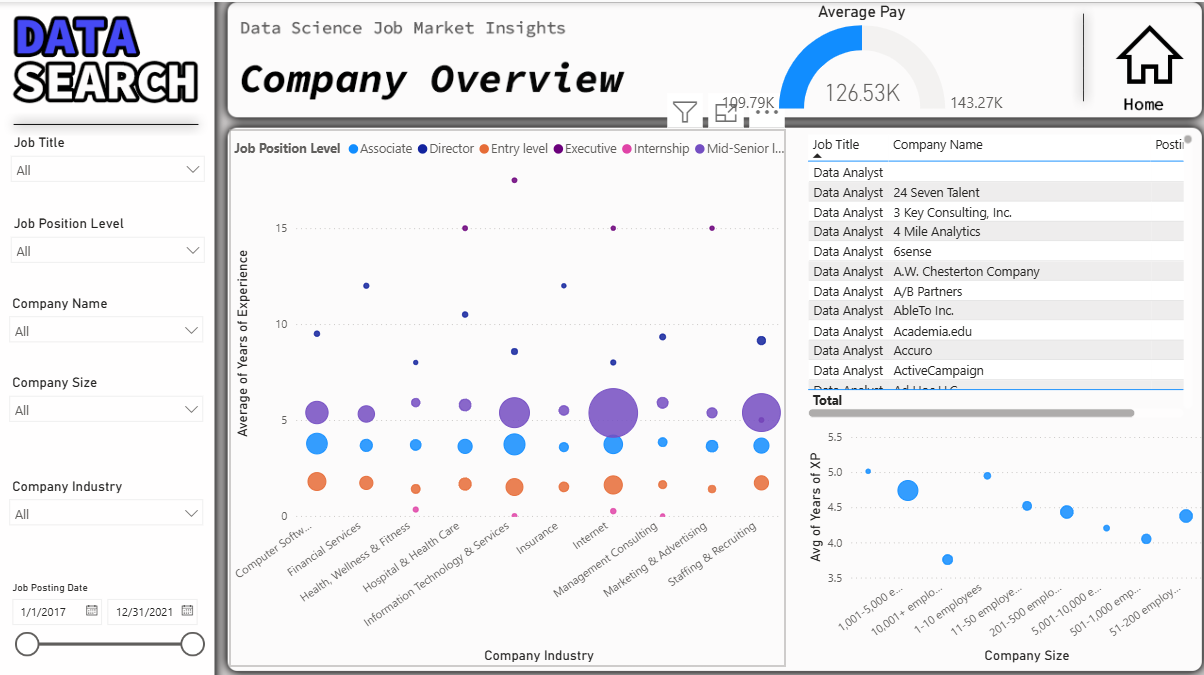

This screenshot's page, from the dashboard's own definition file:
{"tool":"powerbi","page":{"name":"Company","canvas":[1280,720],"ordinal":3},"visuals":[{"type":"slicer","fields":{"Values":["Job Postings.Job Title"]},"box":[2,135.4,225.1,85.6],"z":0},{"type":"slicer","fields":{"Values":["Job Postings.Job Position Level"]},"box":[2,221.1,225.1,83.7],"z":1000},{"type":"slicer","fields":{"Values":["Job Postings.Company Name"]},"box":[0,304.7,225.1,85.6],"z":2000},{"type":"slicer","fields":{"Values":["Job Postings.Company Size"]},"box":[0,390.4,225.1,109.5],"z":3000},{"type":"slicer","fields":{"Values":["Job Postings.Company Industry"]},"box":[0,499.9,225.1,109.5],"z":4000},{"type":"slicer","fields":{"Values":["Job Postings.Job Posting Date"]},"box":[0,609.5,225.1,109.5],"z":5000},{"type":"scatterChart","fields":{"X":["Job Postings.Company Industry"],"Y":["Avg(Job Postings.Years of Experience)"],"Size":["__Measures.Posting Count"],"Series":["Job Postings.Job Position Level"]},"box":[243.4,122.5,607.6,582.2],"z":6000},{"type":"tableEx","fields":{"Values":["Job Postings.Job Title","Job Postings.Company Name","__Measures.Posting Count"]},"box":[851,135.2,418.3,310.2],"z":6001},{"type":"scatterChart","fields":{"X":["Job Postings.Company Size"],"Y":["Avg(Job Postings.Years of Experience)"],"Size":["__Measures.Posting Count"]},"box":[851.3,447,428.7,258],"z":6002},{"type":"gauge","title":"Average Pay","fields":{"Y":["__Measures.Average of Average Pay"],"MinValue":["Avg(Job Postings.Minimum Pay)"],"MaxValue":["Avg(Job Postings.Maximum Pay)"]},"box":[698.3,0,431.1,122.5],"z":6003},{"type":"image","box":[1160.1,14.2,119.9,83.3],"z":6004}]}

Visuals, with their boxes in screenshot pixels (x1, y1, x2, y2), scaled from the page's 1280x720 canvas onto the 1204x675 screenshot:
slicer - Job Postings.Job Title: <bbox>2, 127, 214, 207</bbox>
slicer - Job Postings.Job Position Level: <bbox>2, 207, 214, 286</bbox>
slicer - Job Postings.Company Name: <bbox>0, 286, 212, 366</bbox>
slicer - Job Postings.Company Size: <bbox>0, 366, 212, 469</bbox>
slicer - Job Postings.Company Industry: <bbox>0, 469, 212, 571</bbox>
slicer - Job Postings.Job Posting Date: <bbox>0, 571, 212, 674</bbox>
scatterChart - Job Postings.Company Industry x Avg(Job Postings.Years of Experience): <bbox>229, 115, 800, 661</bbox>
tableEx - Job Postings.Job Title x Job Postings.Company Name: <bbox>800, 127, 1194, 418</bbox>
scatterChart - Job Postings.Company Size x Avg(Job Postings.Years of Experience): <bbox>801, 419, 1203, 661</bbox>
"Average Pay" gauge: <bbox>657, 0, 1062, 115</bbox>
image: <bbox>1091, 13, 1203, 91</bbox>
